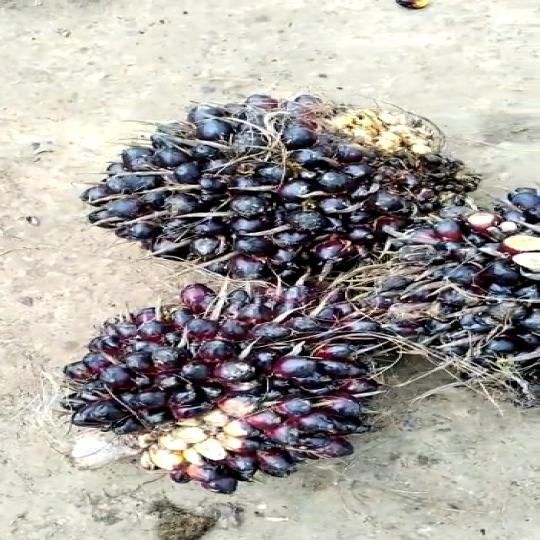mentah: (75, 82, 481, 286), (64, 282, 412, 504), (364, 183, 540, 415)
